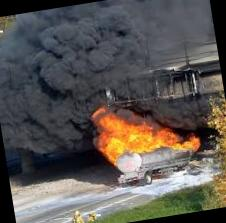Fire: (91, 102, 210, 180)
Smoke: (0, 0, 222, 164)
